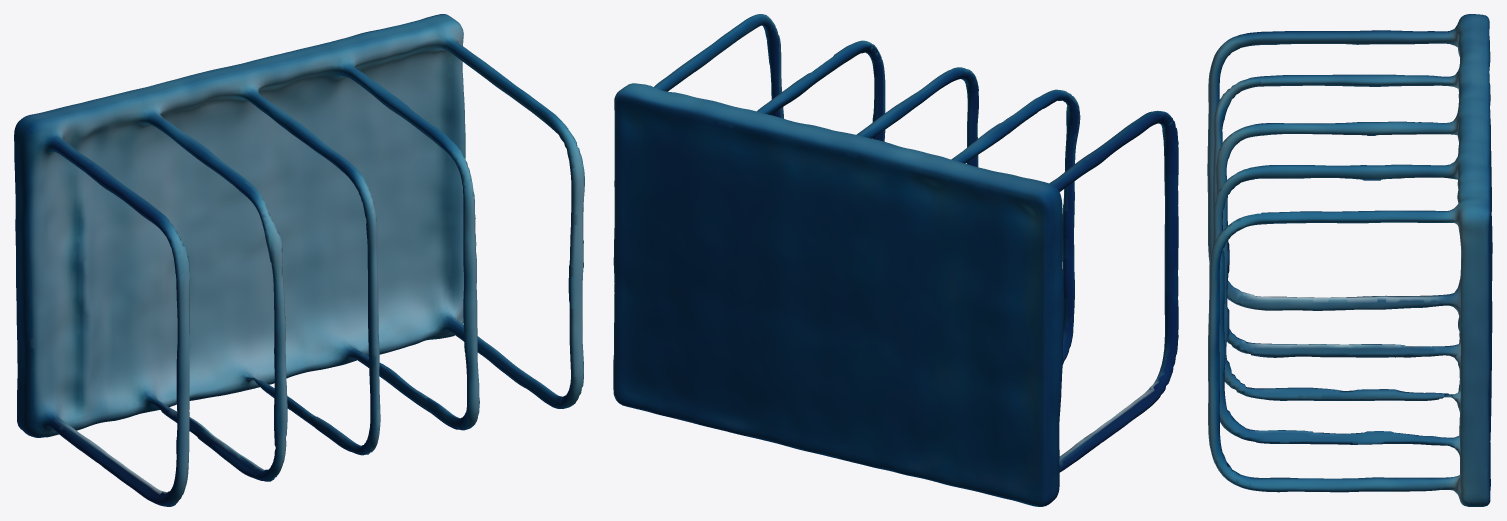
File: sorter.glb
The picture shows the model from 3 angles, left to right: view 1: azimuth 30°, elevation 25°; view 2: azimuth 150°, elevation 25°; view 3: azimuth 270°, elevation 25°; orthographic projection. The views are drawn at different scales.
Size of the model in its own units: 0.9995 by 0.6943 by 0.5896.
